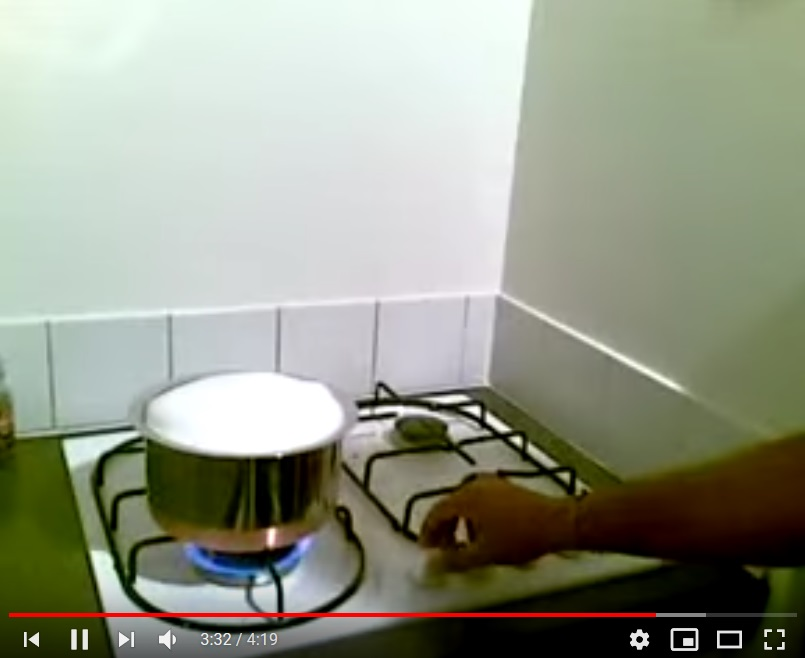Boiled: (116, 359, 364, 562)
